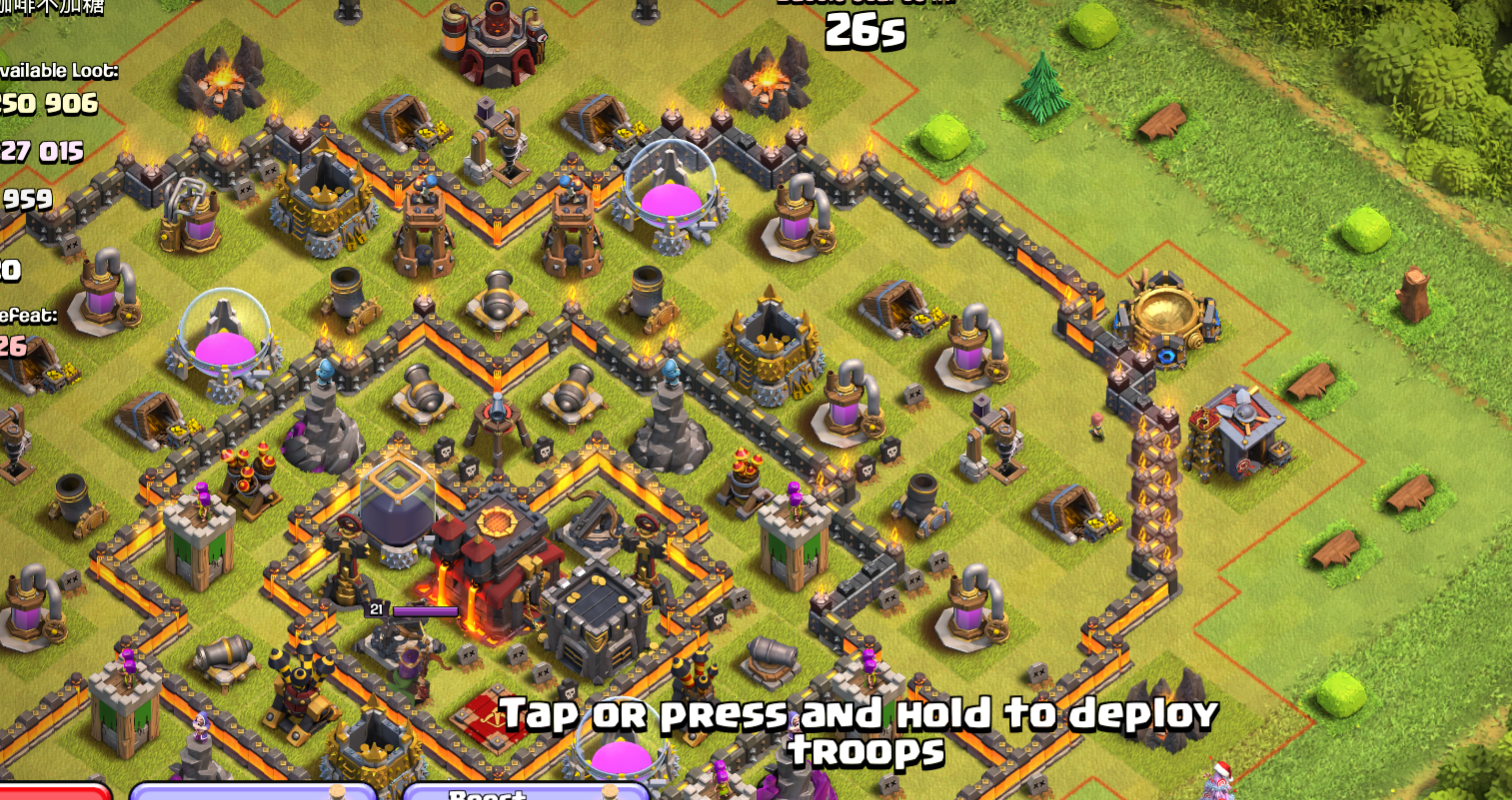dark_elixir_colector: (954, 390, 1037, 500), (458, 131, 537, 192)
elixir_colector: (753, 169, 848, 292), (58, 239, 158, 347), (929, 558, 1013, 677), (156, 168, 245, 274), (810, 355, 888, 466), (937, 290, 1009, 404), (2, 561, 80, 662)
gold_mine: (89, 368, 218, 462), (1011, 458, 1118, 561), (339, 69, 446, 158), (838, 266, 946, 354), (550, 68, 643, 161), (2, 328, 80, 407)
